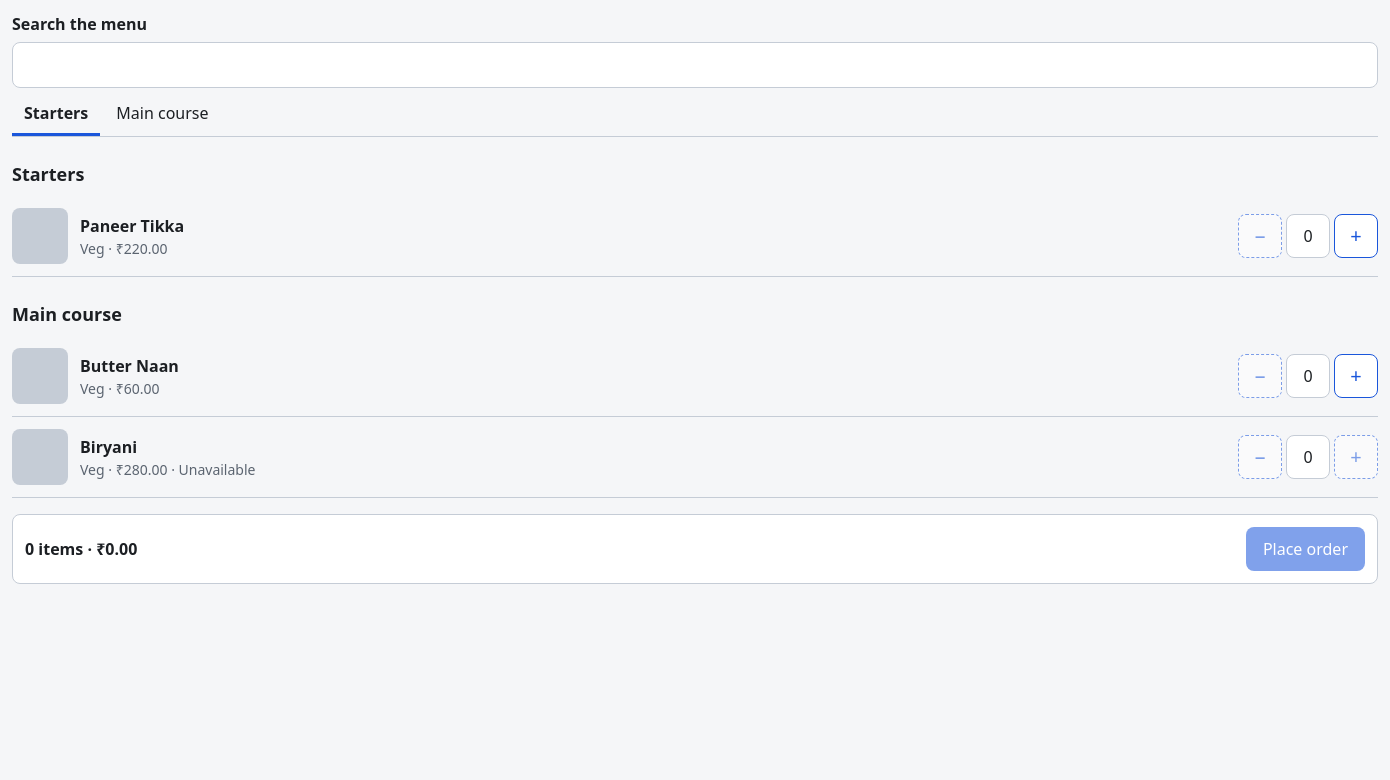
Scenario: RestaurantPage: the cart › removes one dish at a time
The width and height of the screenshot is (1390, 780).
Click the button named "Add Paneer Tikka" at coordinates (1356, 236), box [1334,214,1378,258]
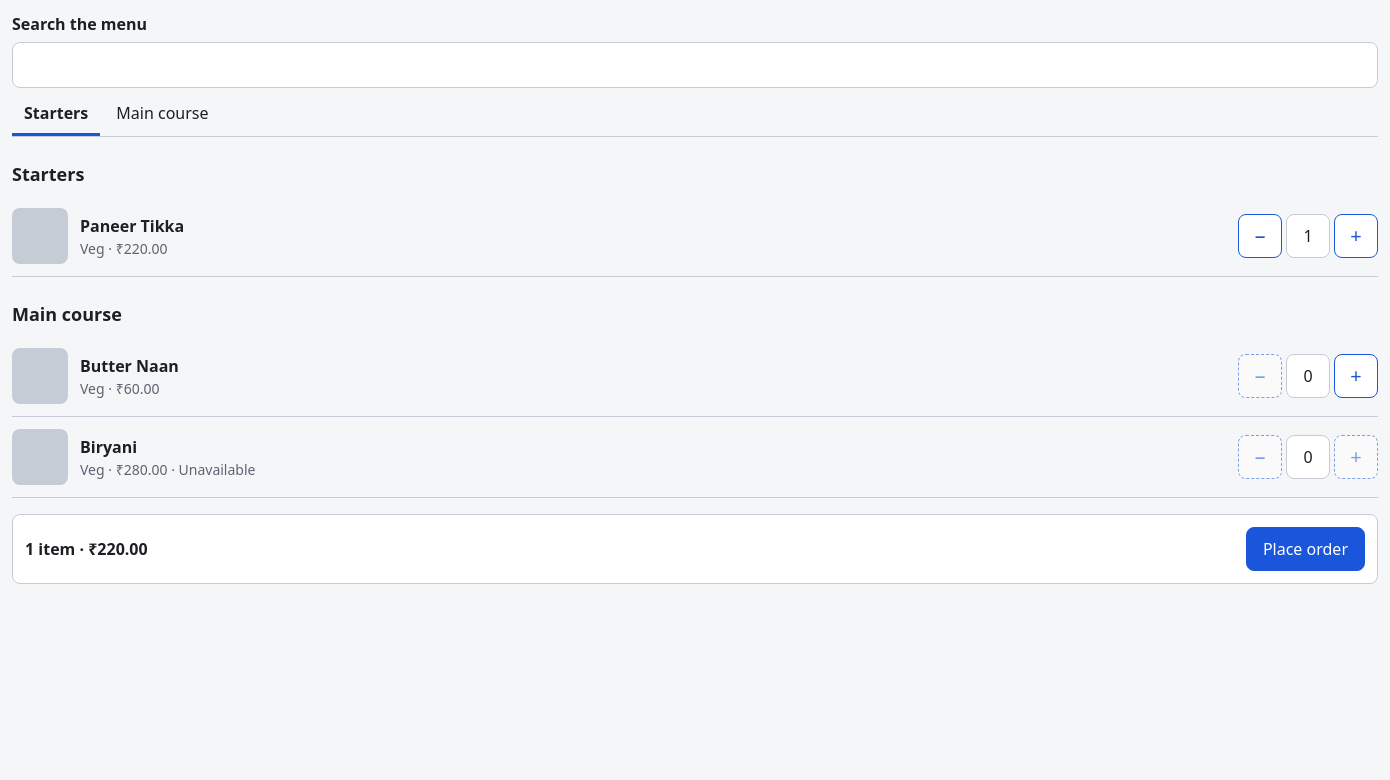
Click the button named "Add Paneer Tikka" at coordinates (1356, 236), box [1334,214,1378,258]
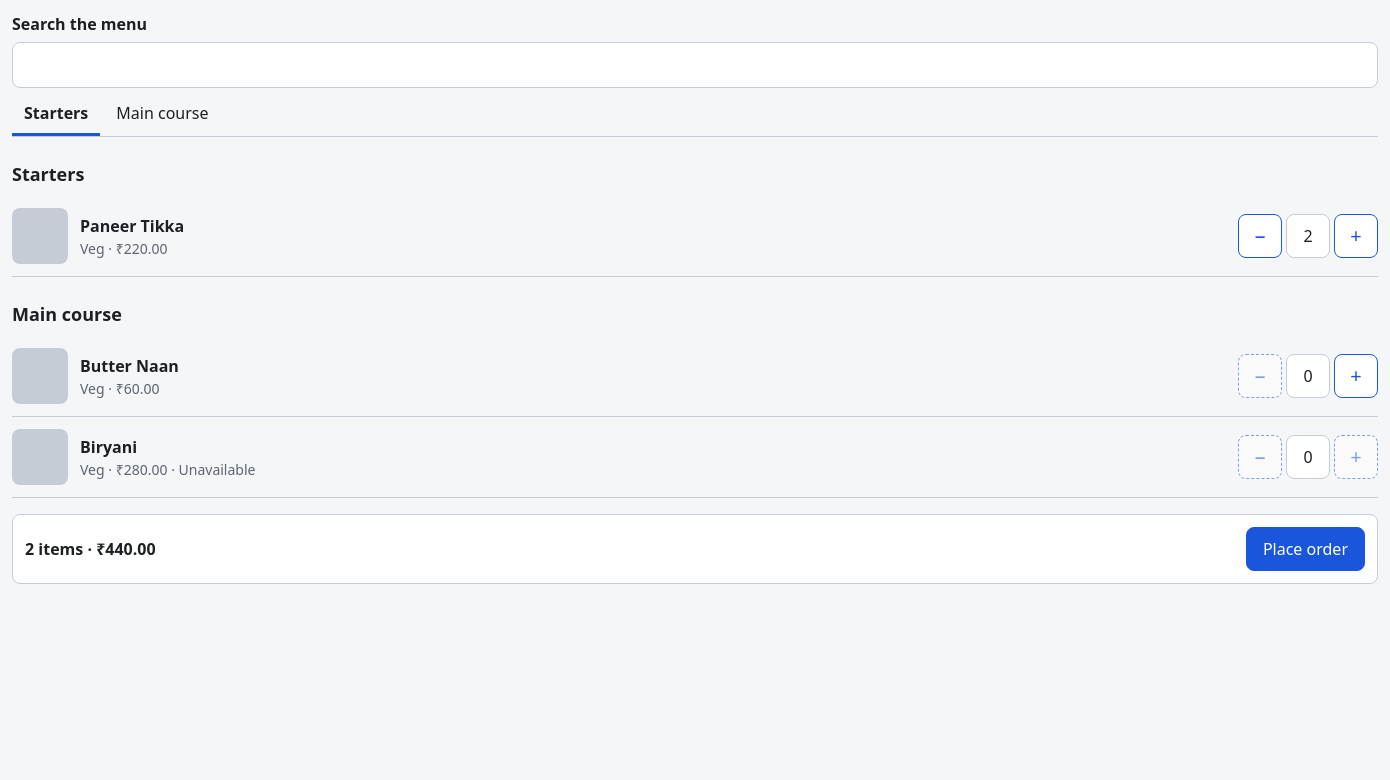
Click the button named "Remove one Paneer Tikka" at coordinates (1260, 236), box [1238,214,1282,258]
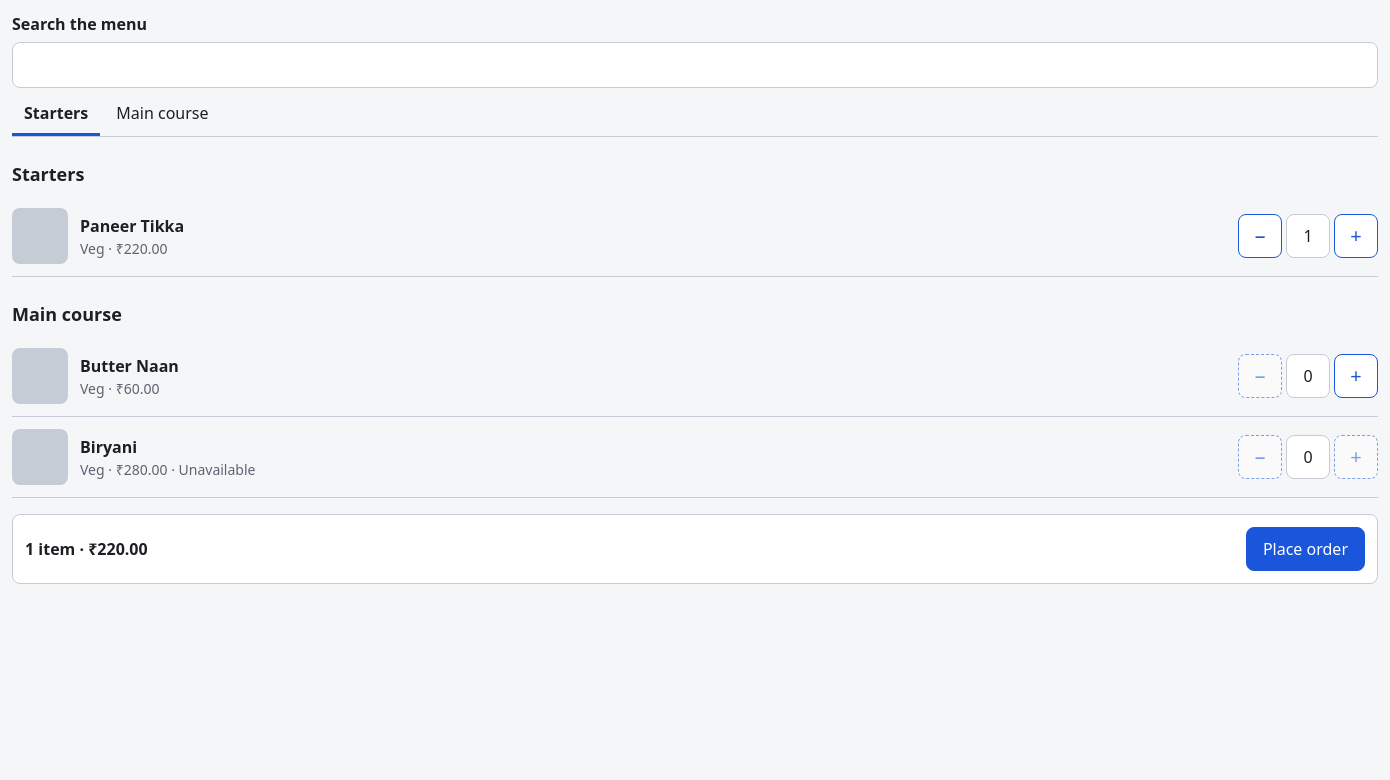
Check: the text "1 item · ₹220.00" is shown, box [25,537,148,561]
